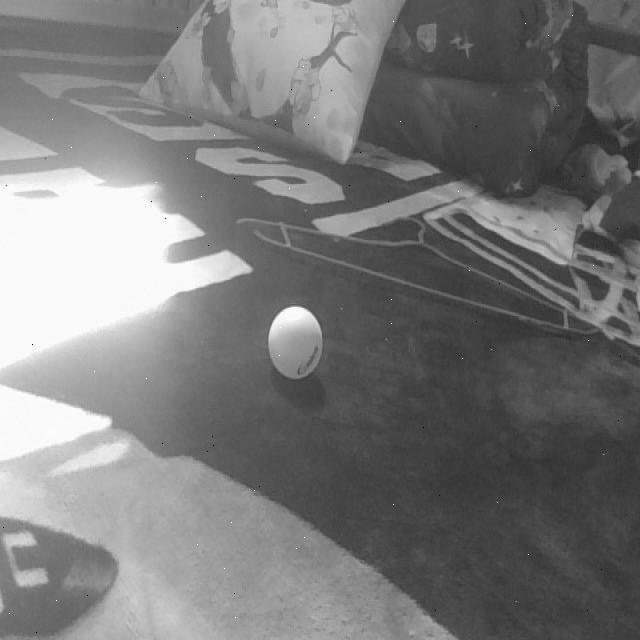ping-pong-ball: (270, 308, 321, 378)
